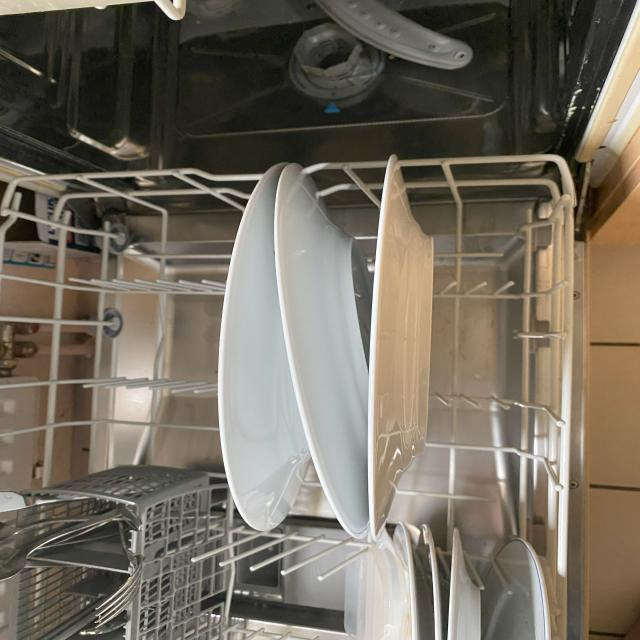empty_slot: (33, 197, 211, 473), (436, 185, 564, 499)
